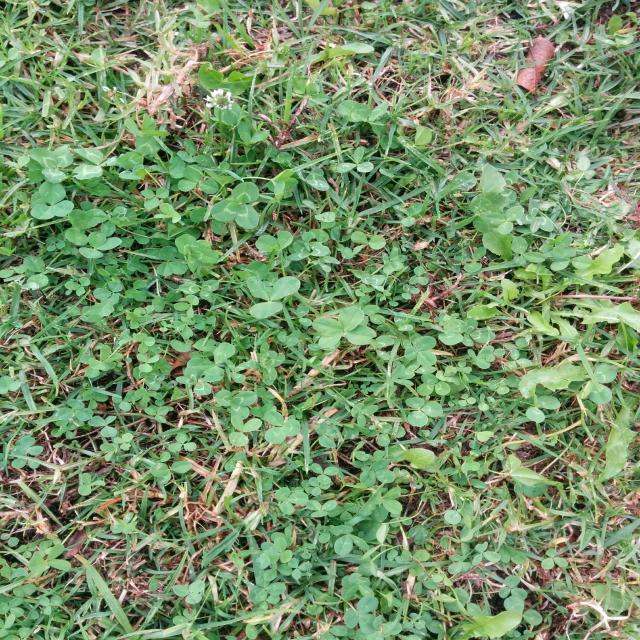Four Leaf Clover: (312, 306, 376, 348)
